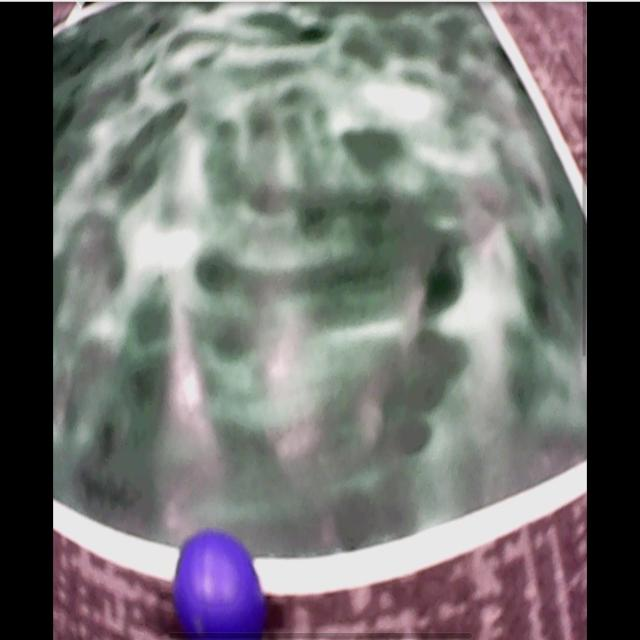ball: (176, 531, 264, 635)
